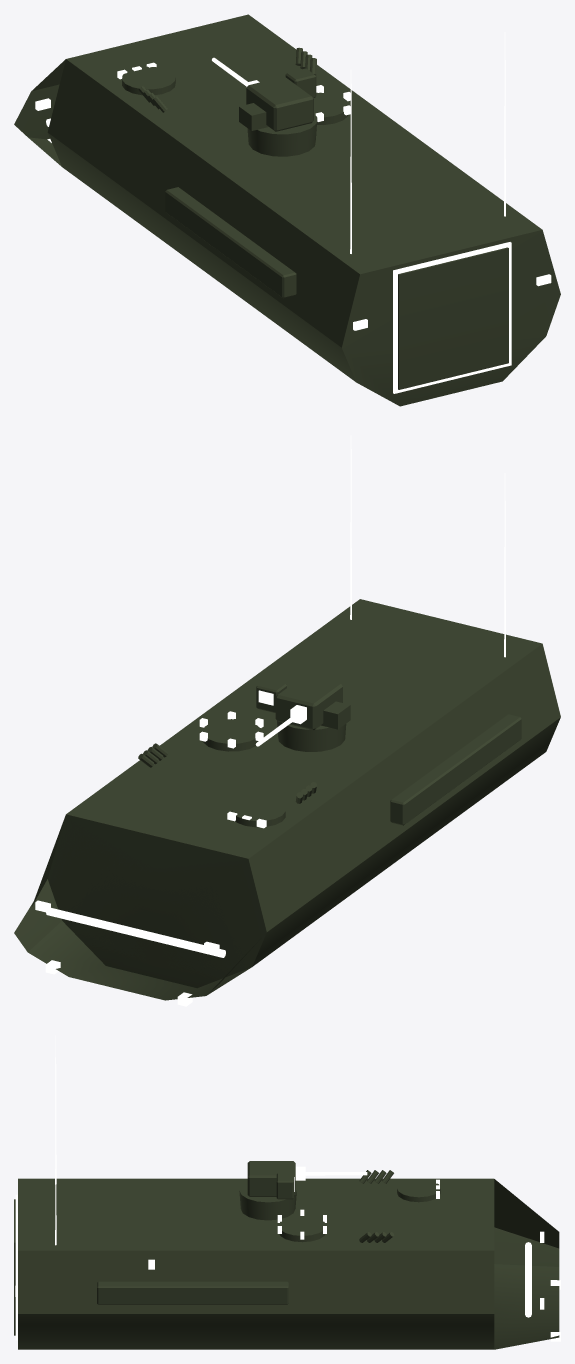
File: apc_8x8.glb
The picture shows the model from 3 angles, top to bottom: view 1: azimuth 30°, elevation 25°; view 2: azimuth 150°, elevation 25°; view 3: azimuth 270°, elevation 25°; orthographic projection. The views are drawn at different scales.
Visible parts, largest first — view 1: apc_8x8_LOD0; view 2: apc_8x8_LOD0; view 3: apc_8x8_LOD0.
Boxes of the visible parts, x1,y1,x2,y2 form: apc_8x8_LOD0: (14,14,560,406); apc_8x8_LOD0: (14,435,560,1006); apc_8x8_LOD0: (14,1035,560,1349).
Size of what is drawn, in the model's own units: 3.27 by 4.25 by 7.99.
